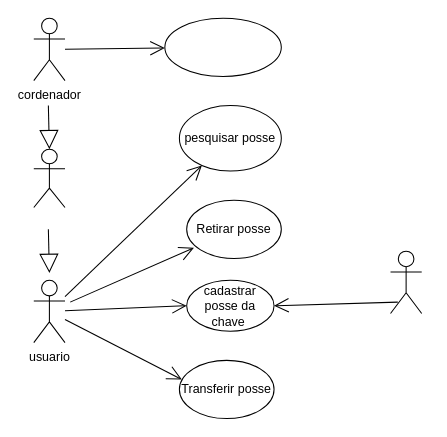
This 447x437 diagram has some shape labels left out. The centre of each missing label's shape, as x and y in pixels:
"autorizar posse" goes at (x=222, y=46).
"professor" goes at (x=49, y=177).
"vigilante" goes at (x=405, y=282).
